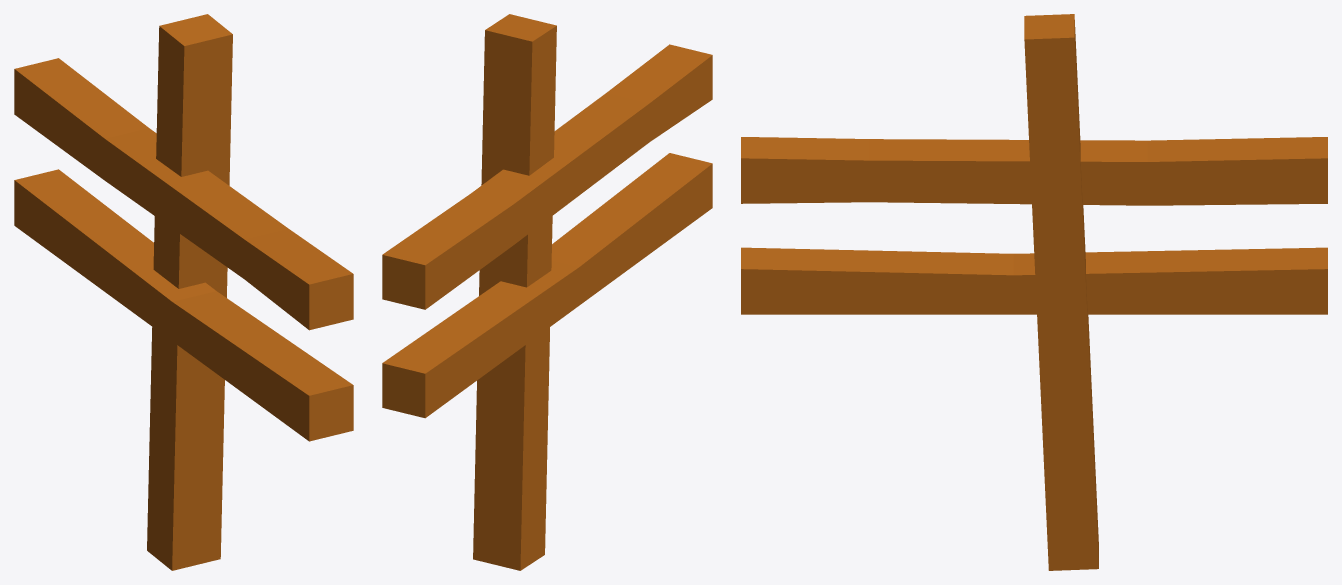
The model's file is cit2.fbx.
The picture shows the model from 3 angles, left to right: view 1: azimuth 30°, elevation 25°; view 2: azimuth 150°, elevation 25°; view 3: azimuth 270°, elevation 25°; orthographic projection. The views are drawn at different scales.
Visible parts, largest first — view 1: Cube; view 2: Cube; view 3: Cube.
Part boxes in pixels (bbox=[...]): Cube: bbox=[14, 14, 353, 570]; Cube: bbox=[382, 14, 712, 570]; Cube: bbox=[741, 14, 1327, 570].
Size of the model in its own units: 52.96 by 410 by 409.
